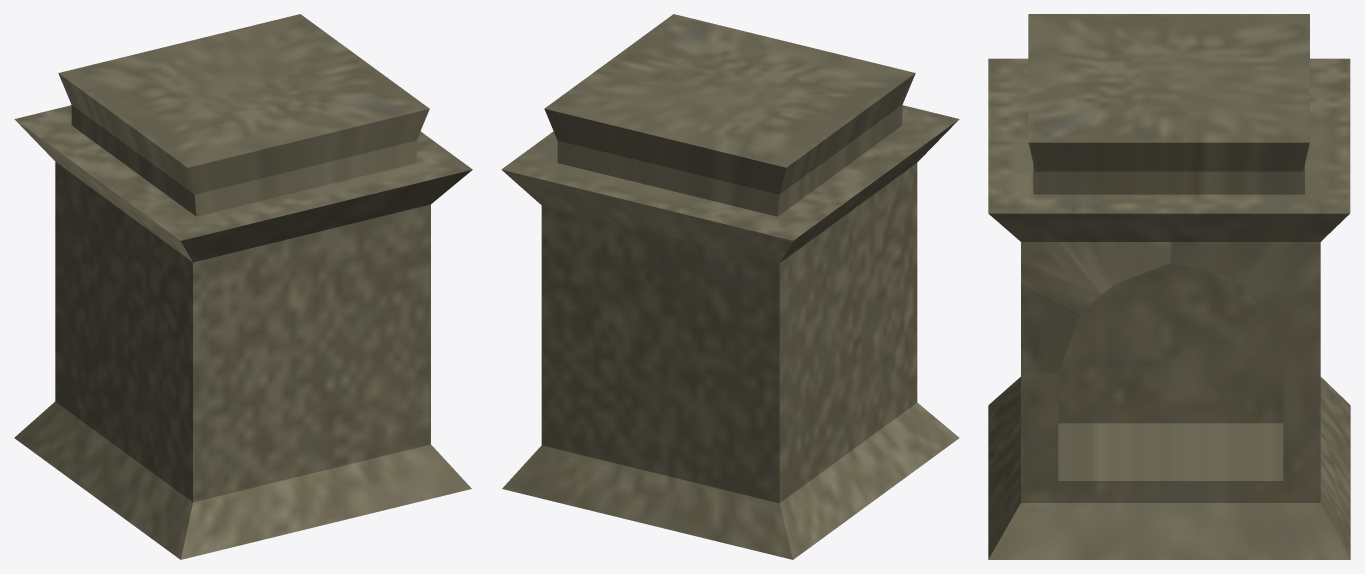
The model's file is Acosta_I_TombstoneWall1.fbx.
The picture shows the model from 3 angles, left to right: view 1: azimuth 30°, elevation 25°; view 2: azimuth 150°, elevation 25°; view 3: azimuth 270°, elevation 25°; orthographic projection. The views are drawn at different scales.
Parts seen in each view (by area): view 1: Cube; view 2: Cube; view 3: Cube.
Boxes of the visible parts, x1,y1,x2,y2 form: Cube: [14, 14, 472, 559]; Cube: [501, 14, 959, 559]; Cube: [988, 14, 1350, 559].
Size of the model in its own units: 604 by 735 by 597.
Materials: 1 (1 with a texture image).
